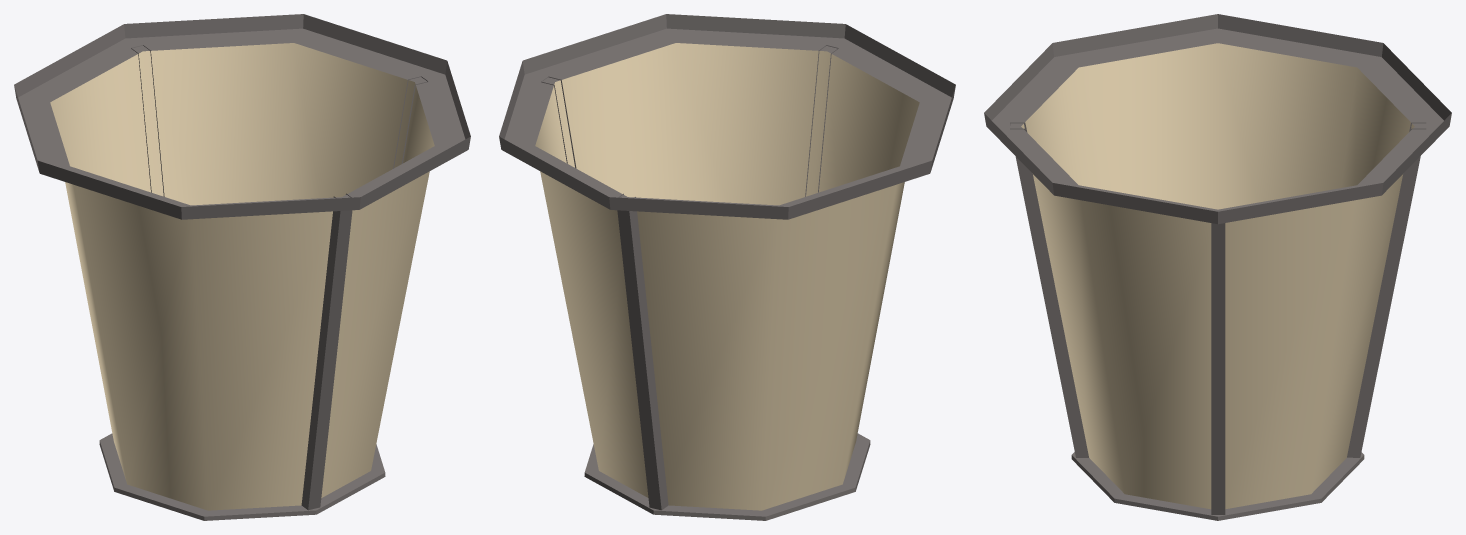
File: lamp_head.obj
3 renders of one model, left to right at view 1: azimuth 30°, elevation 25°; view 2: azimuth 150°, elevation 25°; view 3: azimuth 270°, elevation 25°, orthographic.
Parts seen in each view (by area): view 1: SM_Lamp_01.003; view 2: SM_Lamp_01.003; view 3: SM_Lamp_01.003.
Boxes of the visible parts, left/top/right/bottom form: SM_Lamp_01.003: left=14, top=14, right=470, bottom=520; SM_Lamp_01.003: left=499, top=14, right=955, bottom=520; SM_Lamp_01.003: left=984, top=14, right=1451, bottom=520.
Bounding box in the file's own units: 0.3209 × 0.2862 × 0.3209.
